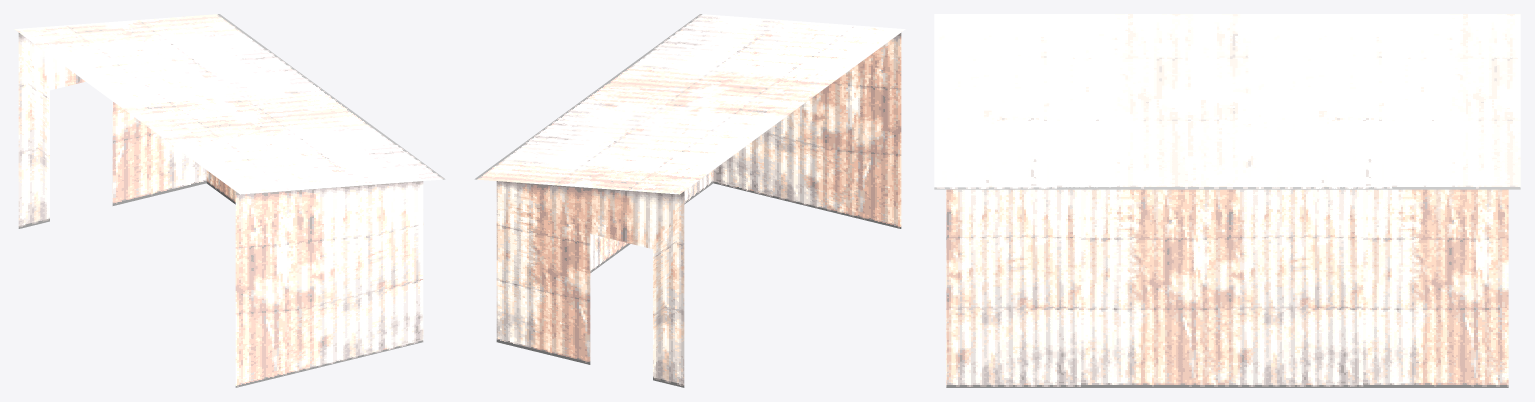
Rendered from leantoB.glb.
3 views of the same model, side by side, from view 1: azimuth 30°, elevation 25°; view 2: azimuth 150°, elevation 25°; view 3: azimuth 270°, elevation 25° (orthographic). The views are drawn at different scales.
Parts seen in each view (by area): view 1: Leanto B; view 2: Leanto B; view 3: Leanto B.
Part boxes in pixels (bbox=[...]): Leanto B: bbox=[14, 14, 445, 387]; Leanto B: bbox=[474, 14, 905, 387]; Leanto B: bbox=[934, 14, 1520, 387].
Size of the model in its own units: 3.29 by 3 by 6.25.
